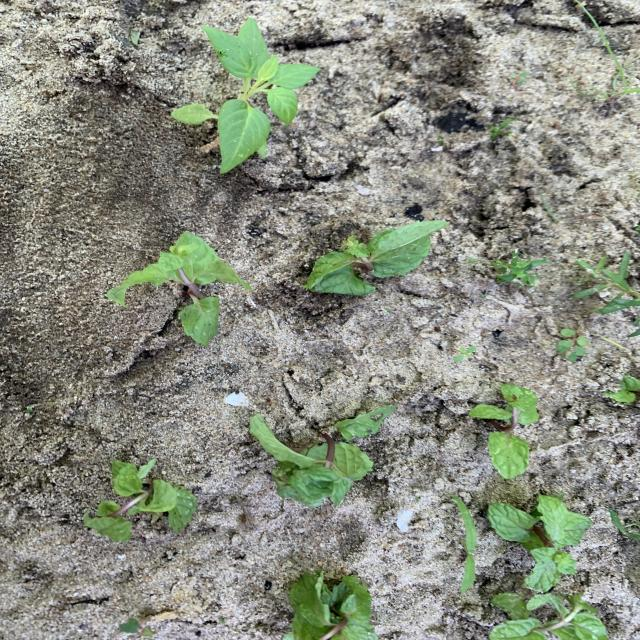crop: (108, 232, 250, 345), (250, 406, 396, 507), (304, 221, 447, 294), (488, 495, 591, 591), (84, 459, 195, 540), (469, 385, 539, 478), (286, 571, 375, 639), (604, 375, 639, 403)
weed: (171, 18, 319, 173), (575, 0, 640, 100), (492, 593, 607, 639), (574, 253, 640, 314), (453, 496, 476, 591), (494, 252, 547, 288), (600, 336, 639, 365), (557, 328, 587, 361), (119, 618, 155, 639), (488, 118, 515, 139), (454, 345, 475, 361), (510, 71, 528, 85), (427, 626, 444, 633), (630, 324, 639, 337), (217, 616, 226, 623)
